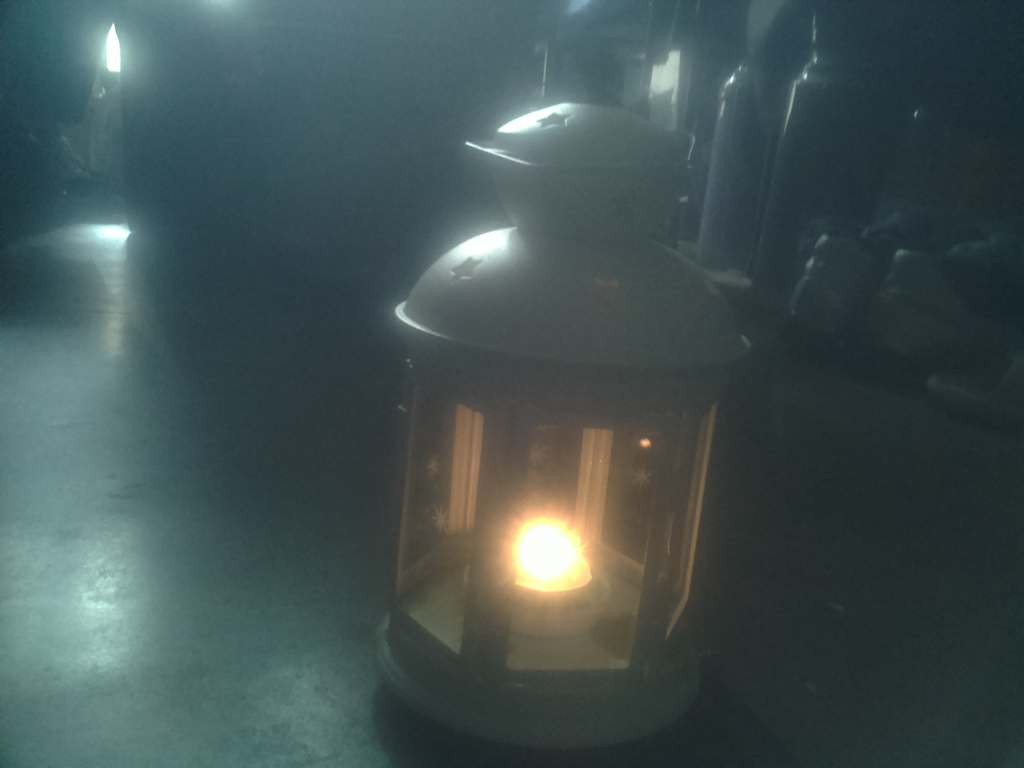fire: (494, 507, 608, 629)
